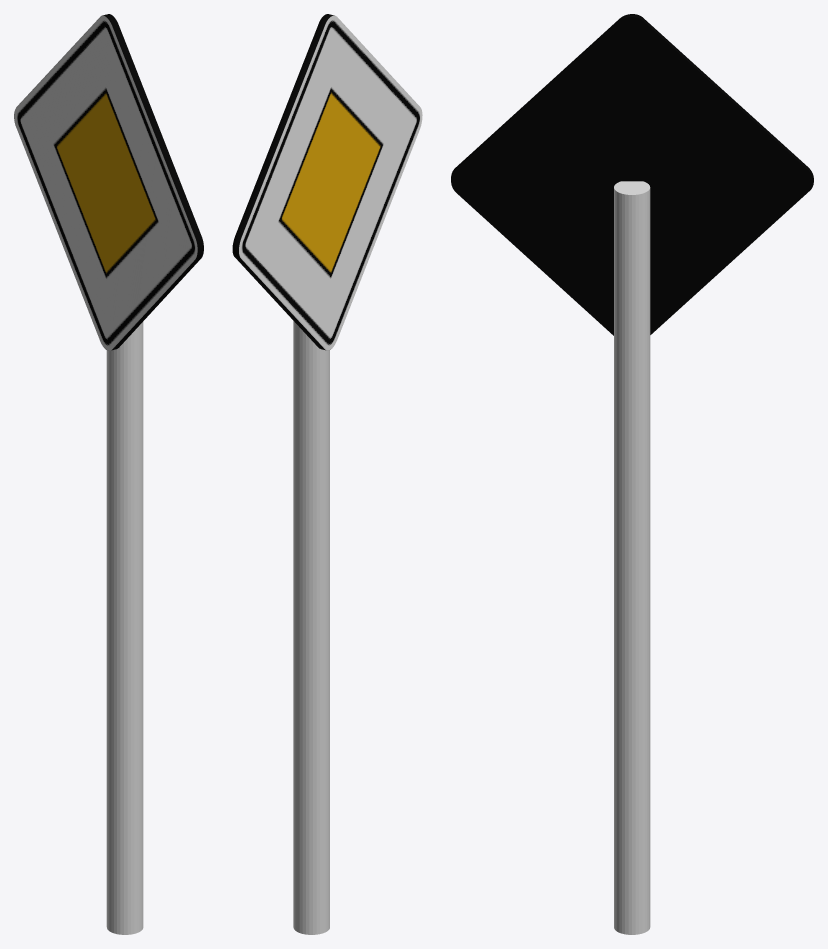
The model's file is priority_sign.dae.
3 renders of one model, left to right at view 1: azimuth 30°, elevation 25°; view 2: azimuth 150°, elevation 25°; view 3: azimuth 270°, elevation 25°, orthographic.
Parts seen in each view (by area): view 1: path3496, Cylinder; view 2: path3496, Cylinder; view 3: path3496, Cylinder.
Part boxes in pixels (x1,y1,x2,y2): path3496: (14, 14, 203, 350); Cylinder: (106, 322, 143, 934); path3496: (232, 14, 422, 350); Cylinder: (293, 321, 329, 934); path3496: (451, 14, 813, 335); Cylinder: (614, 181, 650, 934).
Bounding box in the file's own units: 0.011 × 0.1 × 0.2749.
3 materials, 2 textured.
